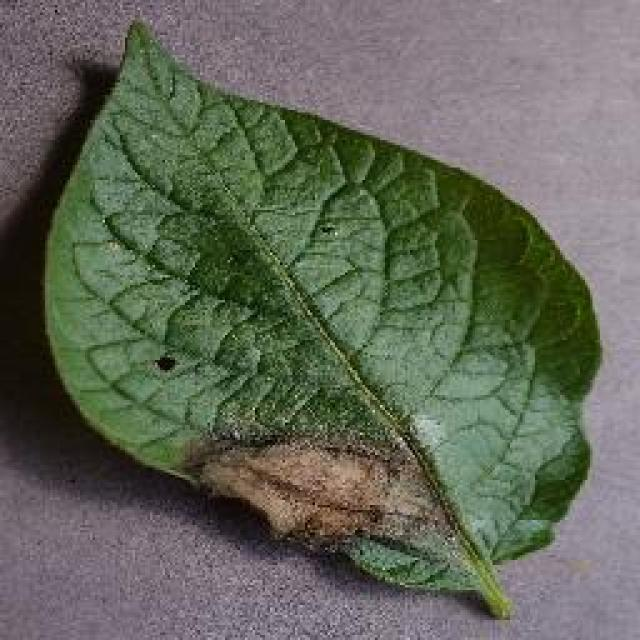late_blight: (37, 15, 605, 620)
